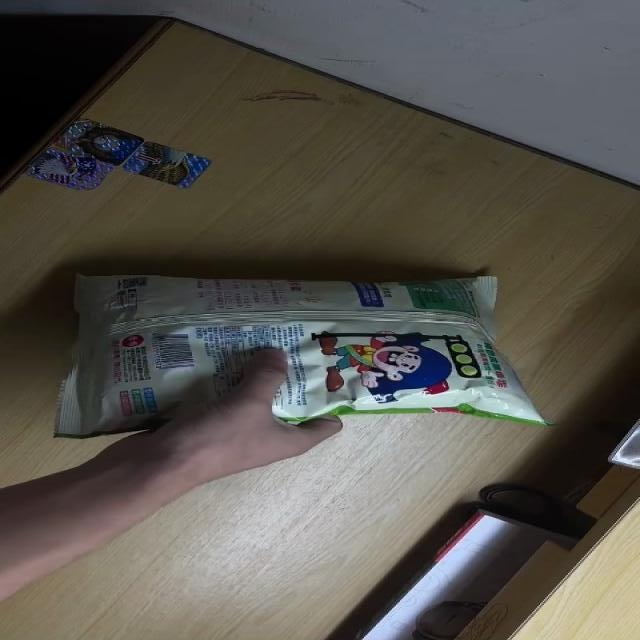Good-Luck: (55, 270, 552, 440)
